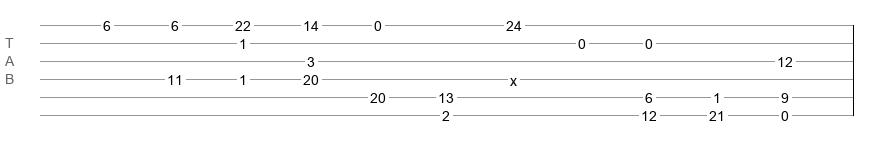0: (374, 18, 382, 28), (578, 36, 586, 46), (645, 36, 653, 46), (781, 108, 789, 118)
1: (239, 72, 247, 82), (239, 36, 247, 46), (713, 90, 721, 100)
11: (167, 72, 183, 82)
12: (641, 108, 657, 118), (777, 54, 793, 64)
13: (438, 90, 454, 100)
14: (303, 18, 319, 28)
2: (442, 108, 450, 118)
20: (303, 72, 319, 82), (370, 90, 386, 100)
21: (709, 108, 725, 118)
22: (235, 18, 251, 28)
24: (506, 18, 522, 28)
3: (307, 54, 315, 64)
6: (103, 18, 111, 28), (171, 18, 179, 28), (645, 90, 653, 100)
9: (781, 90, 789, 100)
x: (510, 73, 517, 81)
